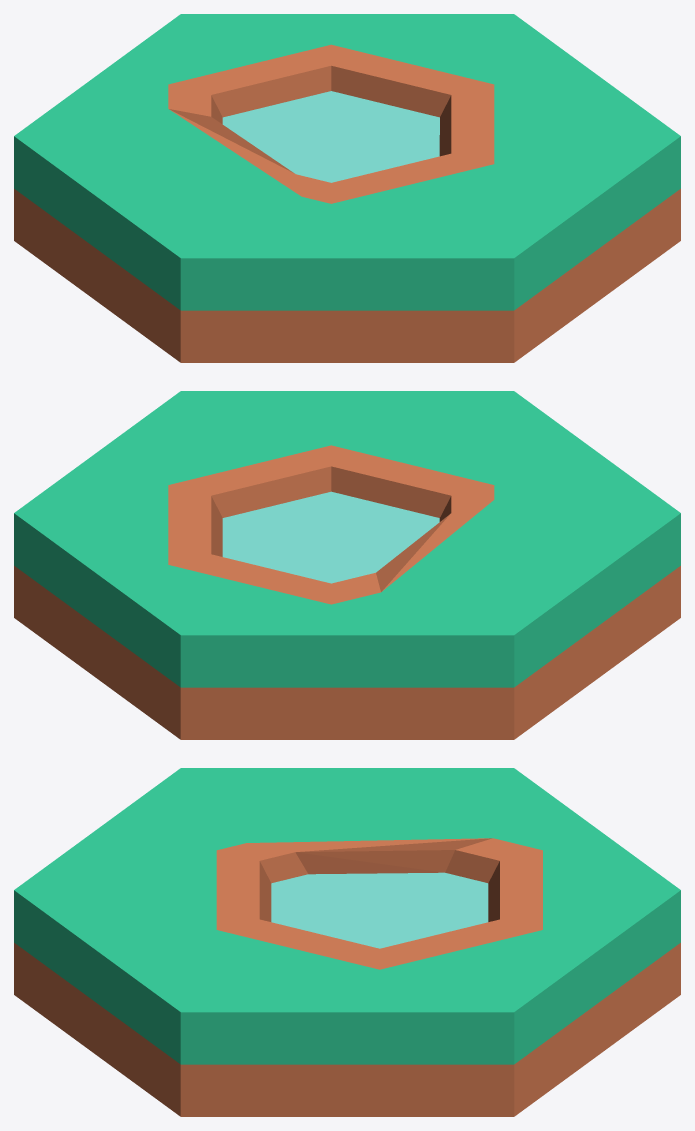
File: river_start_alt.obj
3 views of the same model, one above another, from view 1: azimuth 30°, elevation 25°; view 2: azimuth 150°, elevation 25°; view 3: azimuth 270°, elevation 25° (orthographic).
Visible parts, largest first — view 1: river_start; view 2: river_start; view 3: river_start.
Part boxes in pixels (box(x1,y1,x2,y2)): river_start: box(14, 14, 680, 362); river_start: box(14, 391, 680, 739); river_start: box(14, 768, 680, 1116).
Size of the model in its own units: 1 by 0.2 by 1.15.
